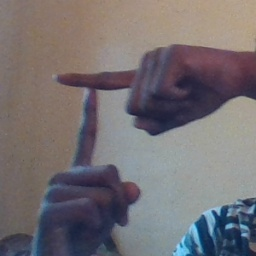T: (34, 53, 165, 191)
